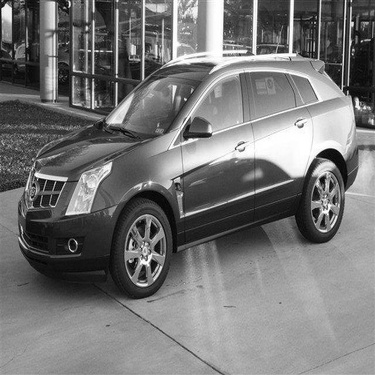car: (12, 47, 363, 304)
